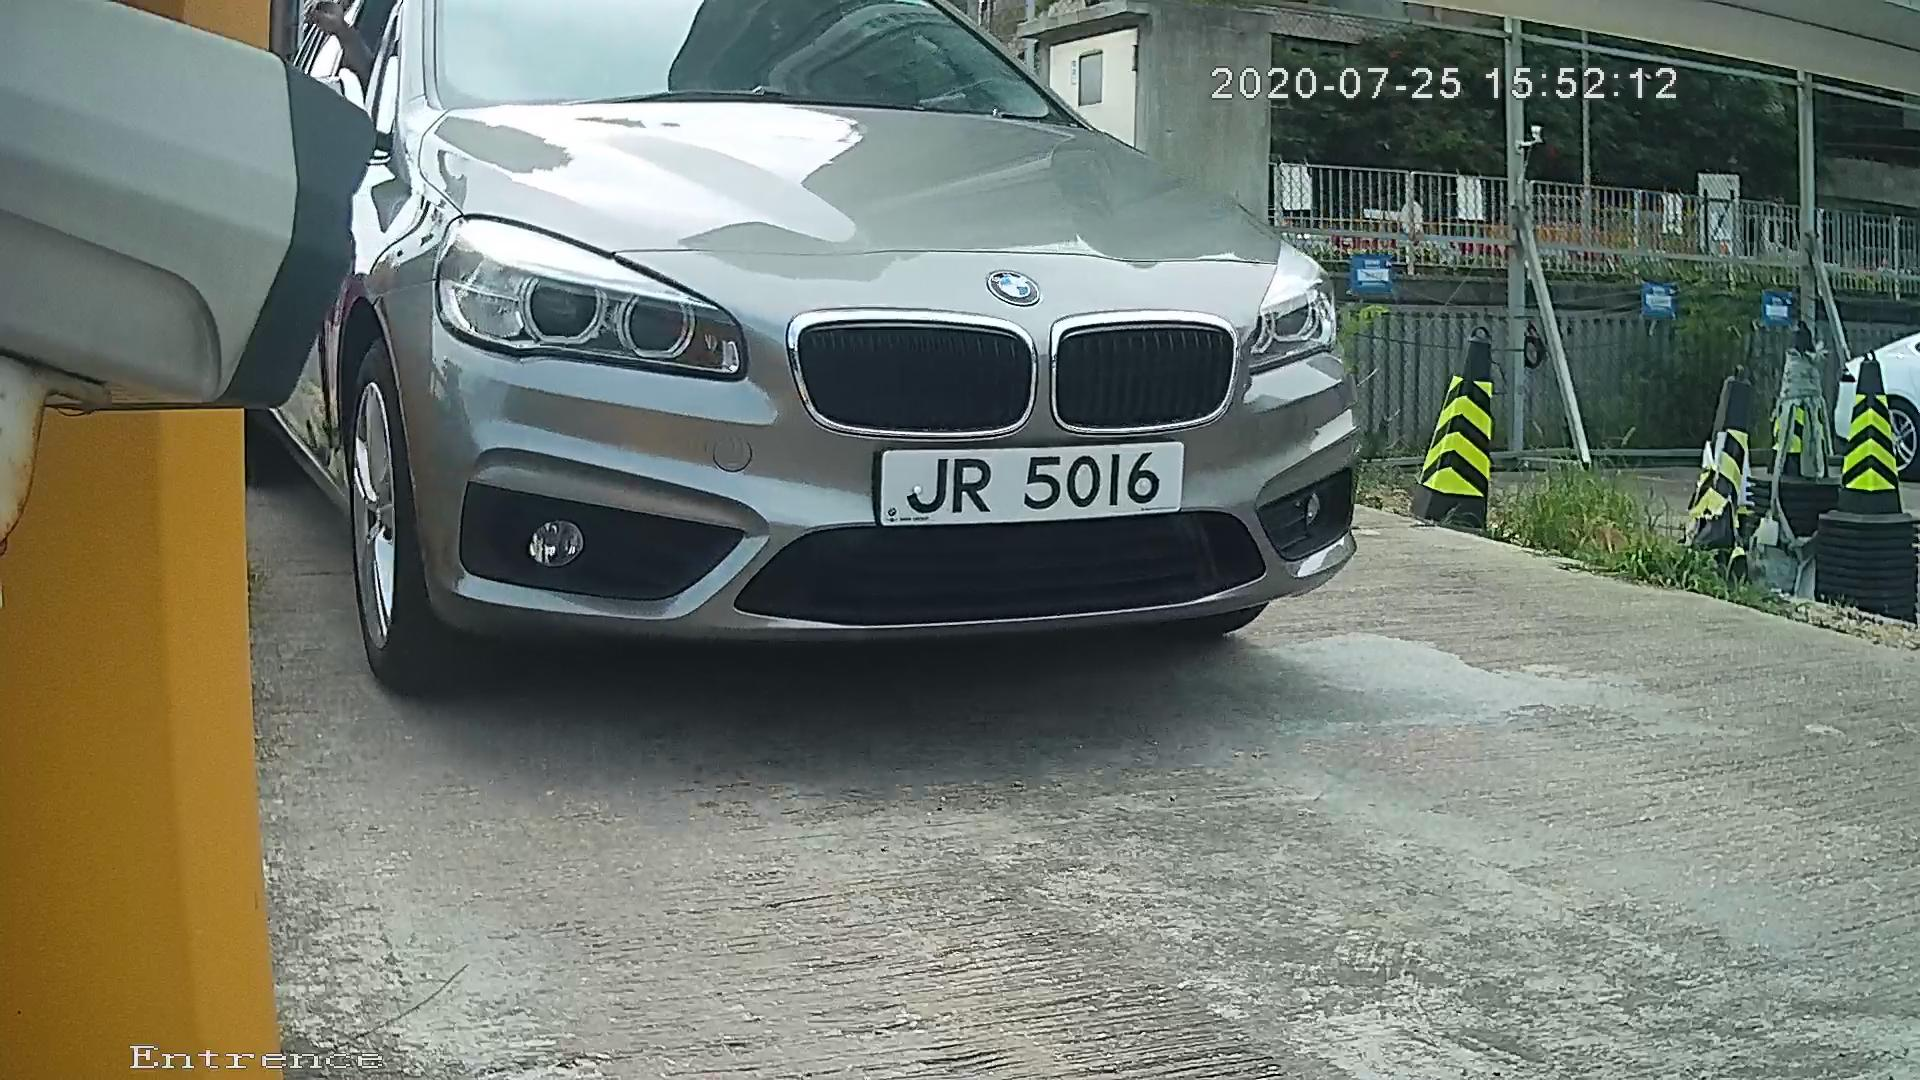License Plate: (849, 434, 1209, 541)
